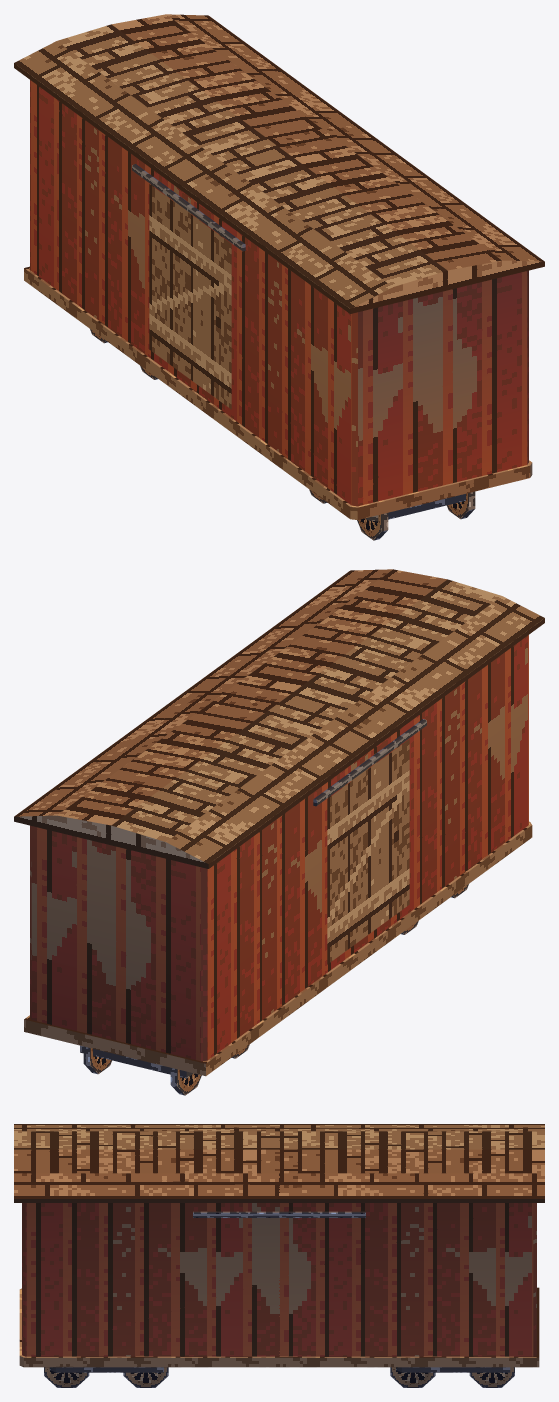
Rendered from wrail.car.glb.
The picture shows the model from 3 angles, top to bottom: view 1: azimuth 30°, elevation 25°; view 2: azimuth 150°, elevation 25°; view 3: azimuth 270°, elevation 25°; orthographic projection. The views are drawn at different scales.
Parts seen in each view (by area): view 1: kit_body, kit_roof, kit_card_doors, kit_frame, kit_wheels, kit_door_track, kit_trucks; view 2: kit_body, kit_roof, kit_card_doors, kit_frame, kit_wheels, kit_door_track, kit_trucks; view 3: kit_body, kit_roof, kit_frame, kit_wheels, kit_trucks, kit_door_track.
Part boxes in pixels (bbox=[...]): kit_body: bbox=[30, 80, 528, 506]; kit_roof: bbox=[14, 14, 544, 313]; kit_card_doors: bbox=[149, 184, 231, 409]; kit_frame: bbox=[24, 266, 532, 519]; kit_wheels: bbox=[90, 329, 475, 540]; kit_door_track: bbox=[132, 164, 245, 251]; kit_trucks: bbox=[365, 494, 465, 521]; kit_body: bbox=[30, 635, 528, 1061]; kit_roof: bbox=[14, 569, 544, 868]; kit_card_doors: bbox=[327, 739, 409, 964]; kit_frame: bbox=[24, 821, 532, 1076]; kit_wheels: bbox=[83, 884, 468, 1095]; kit_door_track: bbox=[313, 719, 426, 806]; kit_trucks: bbox=[80, 1045, 193, 1078]; kit_body: bbox=[22, 1203, 536, 1356]; kit_roof: bbox=[14, 1124, 544, 1202]; kit_frame: bbox=[19, 1287, 539, 1367]; kit_wheels: bbox=[44, 1367, 514, 1387]; kit_trucks: bbox=[49, 1367, 510, 1372]; kit_door_track: bbox=[193, 1211, 365, 1217].
Bounding box in the file's own units: 2.46 × 3.37 × 7.36.
Materials: 7 (7 with a texture image).
